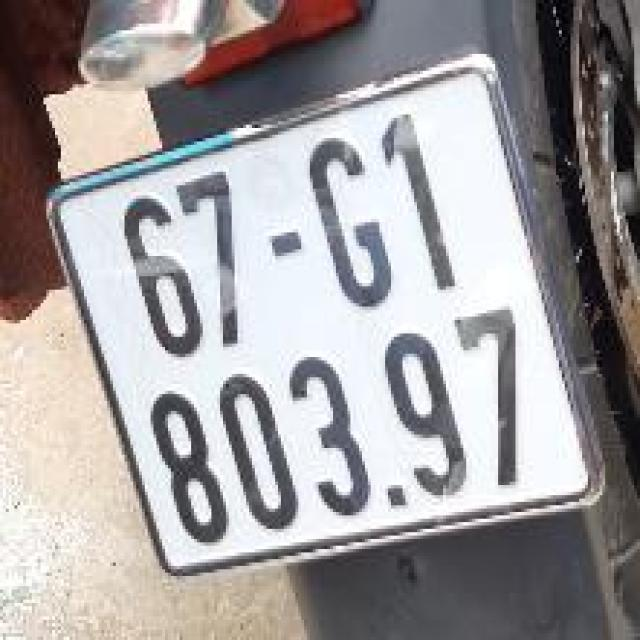0: (208, 360, 313, 542)
1: (368, 99, 471, 305)
3: (278, 339, 383, 530)
6: (115, 184, 214, 365)
7: (164, 156, 266, 360), (443, 289, 541, 496)
8: (133, 378, 246, 555)
9: (368, 314, 479, 505)
G: (296, 119, 407, 324)
